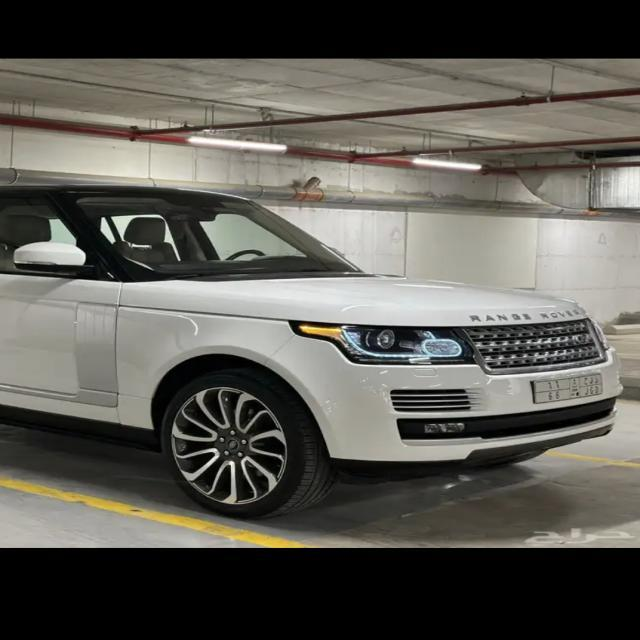license_plate: (534, 372, 606, 402)
